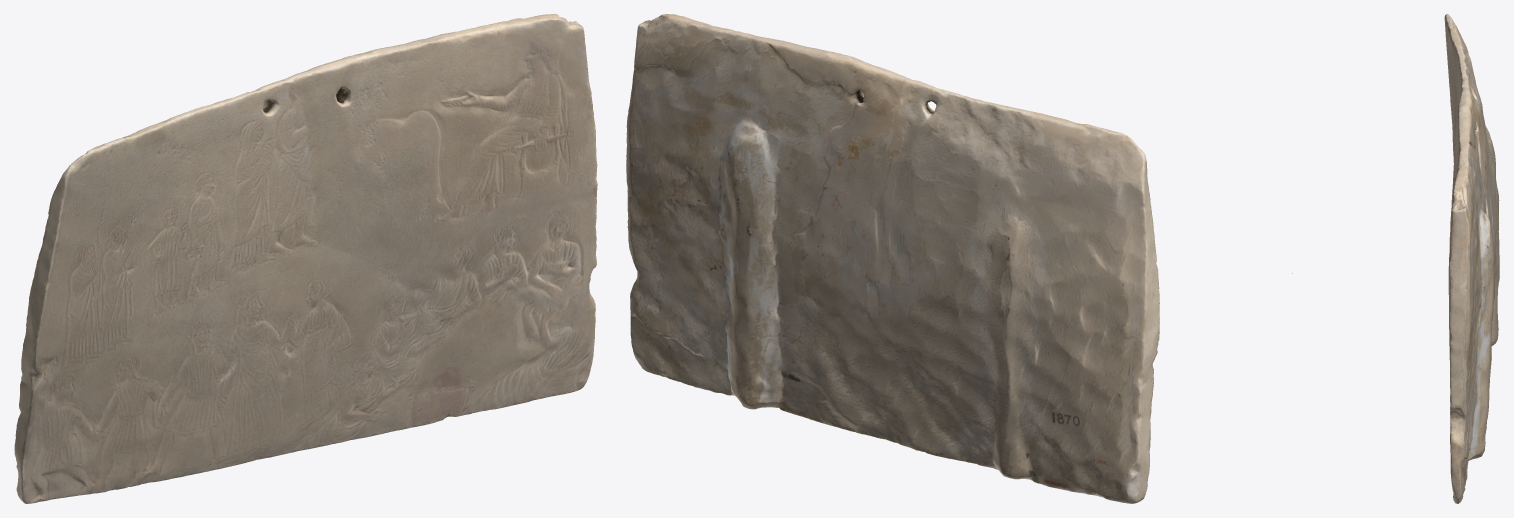
File: preview.glb
3 renders of one model, left to right at view 1: azimuth 30°, elevation 25°; view 2: azimuth 150°, elevation 25°; view 3: azimuth 270°, elevation 25°, orthographic. The views are drawn at different scales.
Visible parts, largest first — view 1: _n3d; view 2: _n3d; view 3: _n3d.
Part boxes in pixels (bbox=[...]): _n3d: bbox=[14, 14, 597, 503]; _n3d: bbox=[626, 14, 1292, 503]; _n3d: bbox=[1444, 14, 1499, 503].
Bounding box in the file's own units: 0.4859 × 0.2933 × 0.1524.
Materials: 2 (2 with a texture image).
